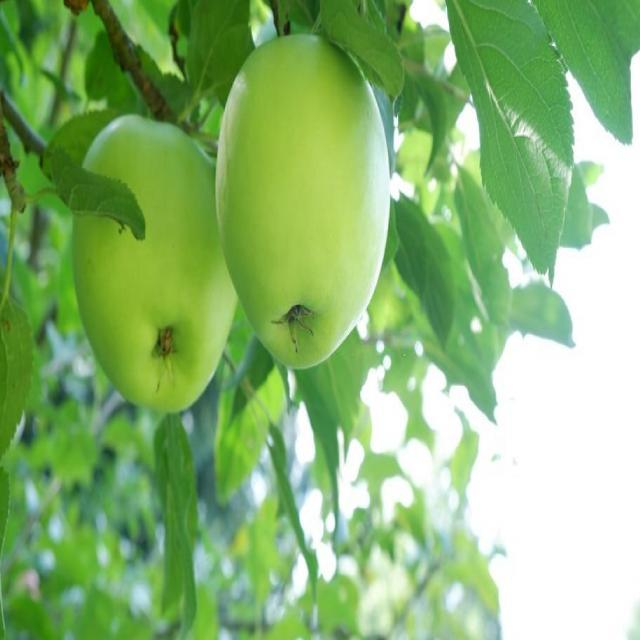Green Apple: (218, 27, 392, 378), (81, 114, 234, 400)
